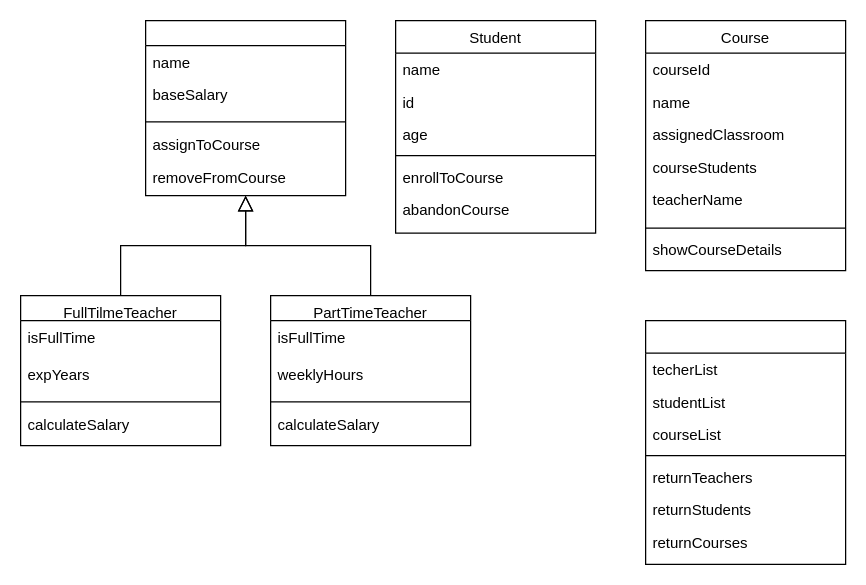
Image size: 866x585. Some labels were removed from this diagram. The box of each missing label's shape, as (x1, y1, x2, y2) in pixels:
Teacher: (144, 19, 346, 196)
University: (644, 319, 846, 564)
